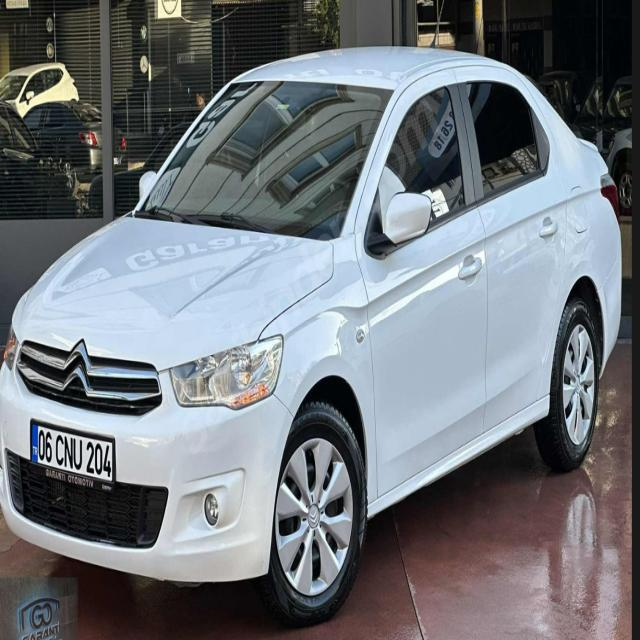citroen: (60, 335, 97, 402)
